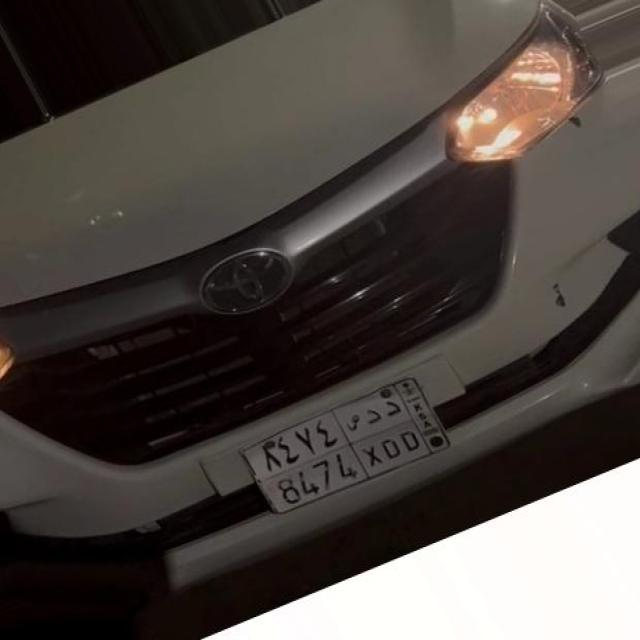Car-plate: (216, 351, 468, 553)
